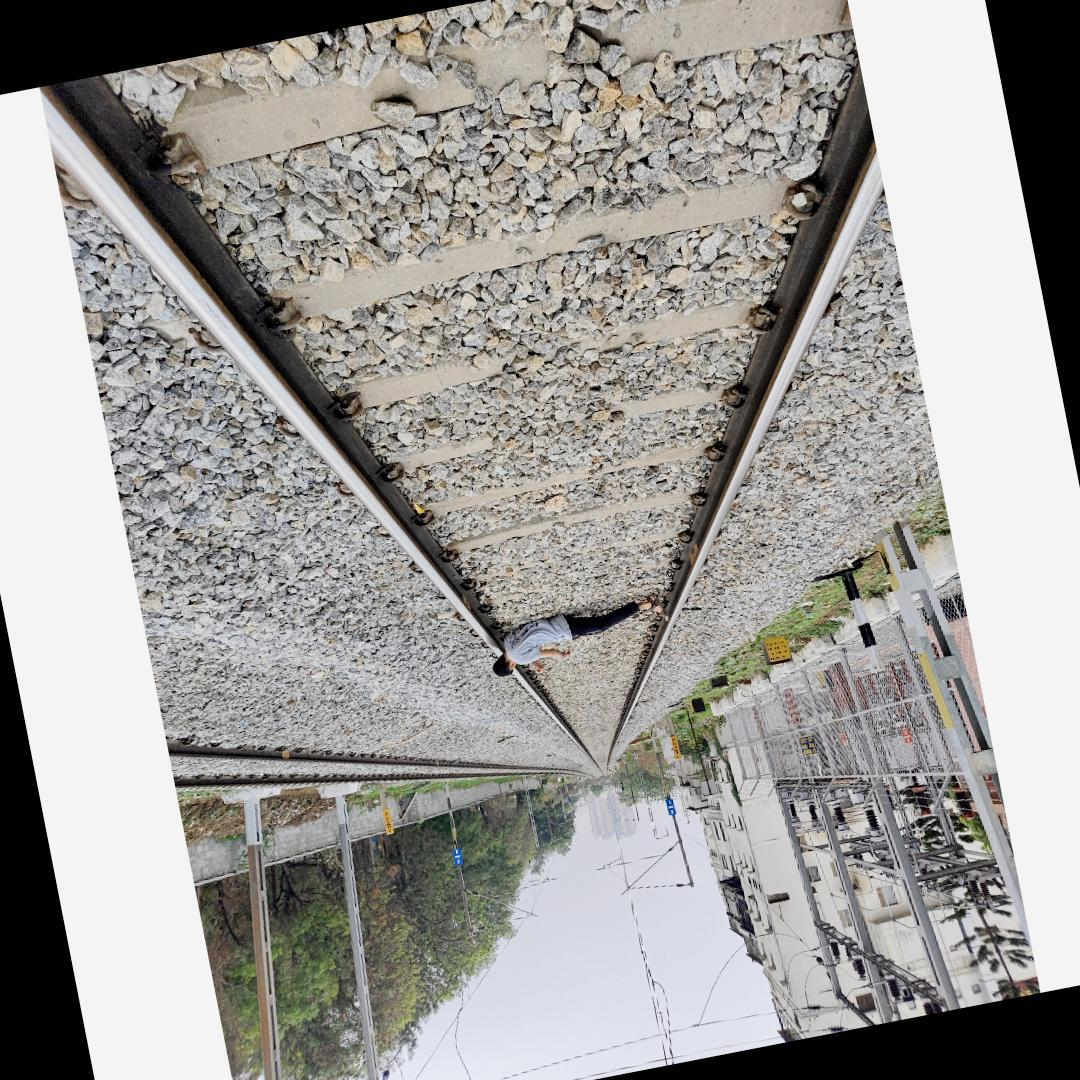sleeping: (482, 592, 671, 684)
track: (39, 0, 895, 779)
